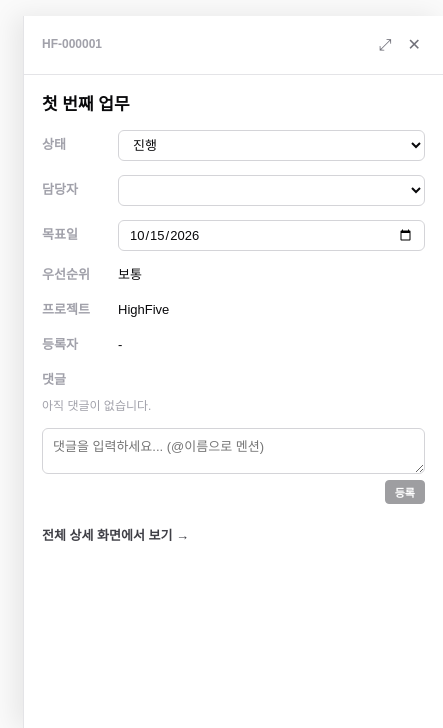
Scenario: 빠른 업무 상세 안정성 › 댓글 저장 중 추가 입력한 내용은 성공 응답이 와도 지우지 않는다
Expected: the heading "첫 번째 업무" is shown, top-left (42, 95), bottom-right (130, 114)
Type "먼저 저장" into the text box with placeholder "댓글을 입력하세요... (@이름으로 멘션)". click: (234, 451)
box: top-left (42, 428), bottom-right (425, 474)
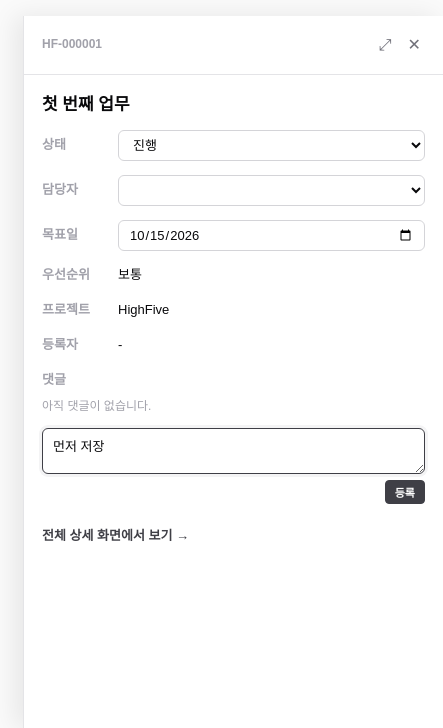
Click the button "등록". click: (405, 492)
box: top-left (385, 480), bottom-right (425, 504)
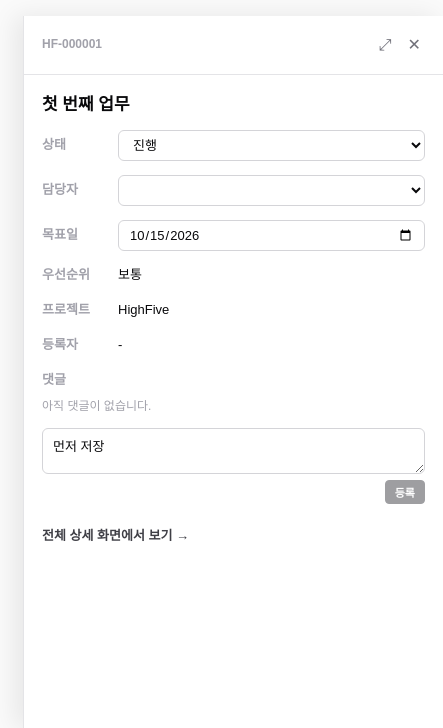
Type " 추가 입력" into the text box with placeholder "댓글을 입력하세요... (@이름으로 멘션)". click: (234, 451)
box: top-left (42, 428), bottom-right (425, 474)
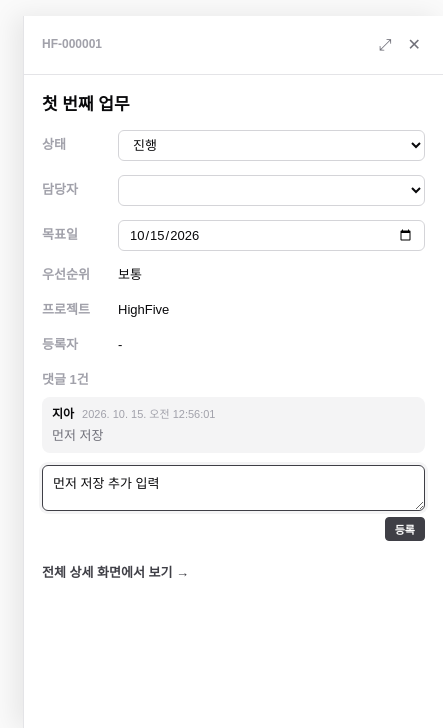
Now the text box with placeholder "댓글을 입력하세요... (@이름으로 멘션)" holds "먼저 저장 추가 입력", box top-left (42, 465), bottom-right (425, 511)
